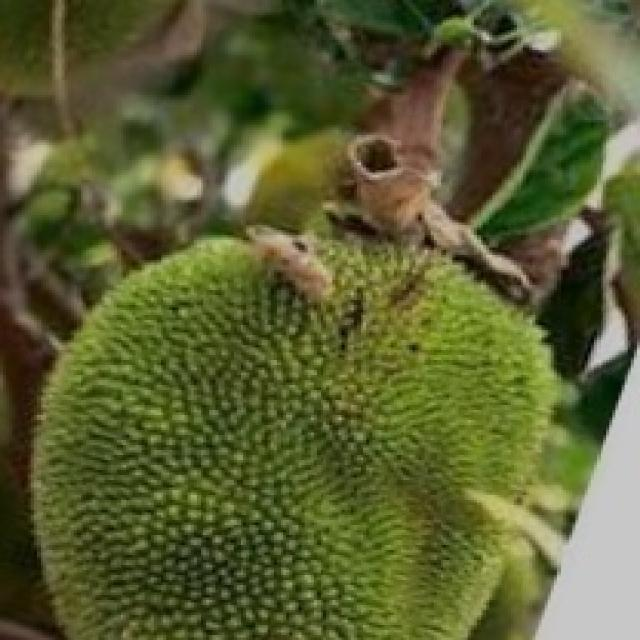Fruit: (0, 215, 391, 637), (274, 220, 631, 640)
